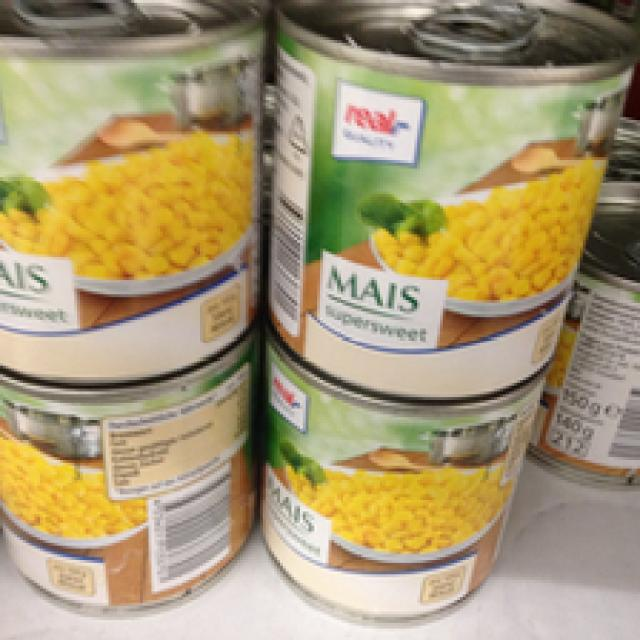groceries: (266, 0, 634, 403), (0, 0, 263, 389), (254, 337, 549, 620), (0, 368, 257, 608)
